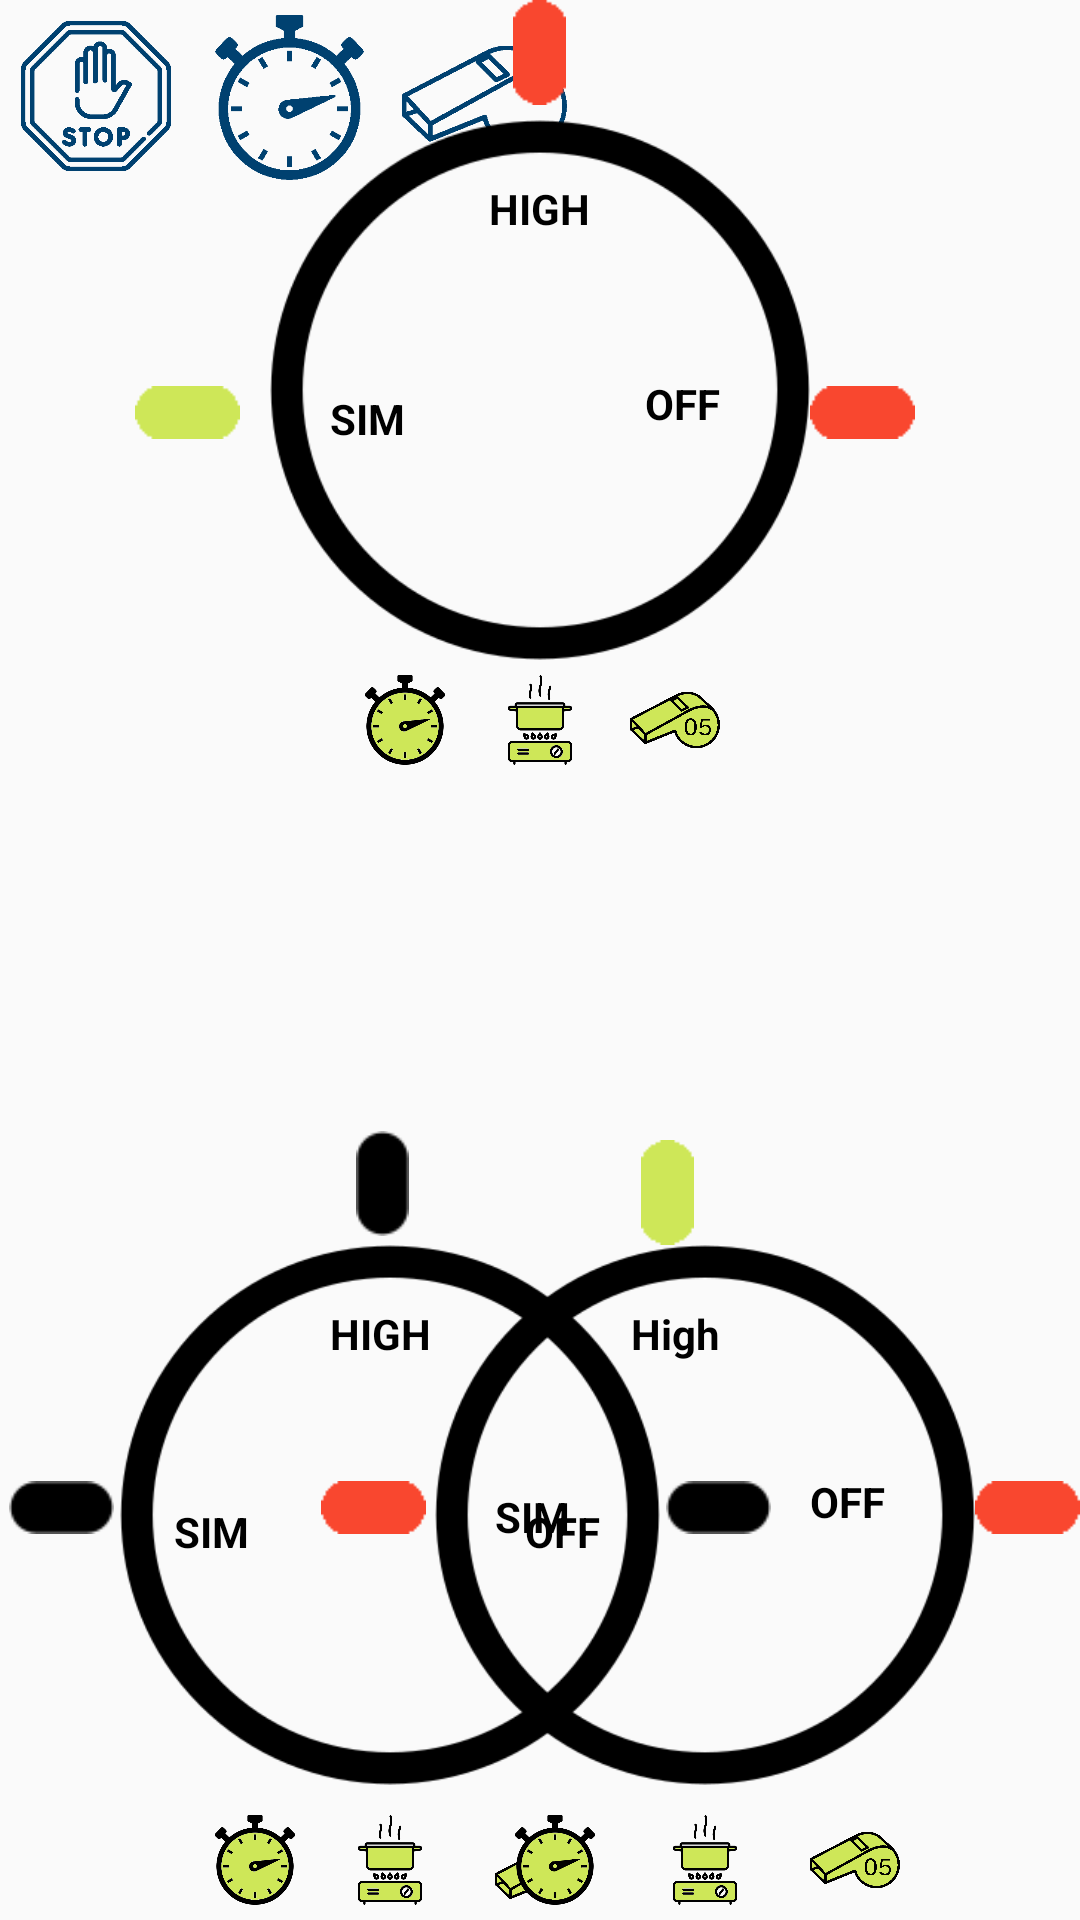

Icons on this 1080px x 1920px Android screen, each with the point to tap as (x=x, y=y):
stove: (x=540, y=720), (x=390, y=1860), (x=705, y=1860)
